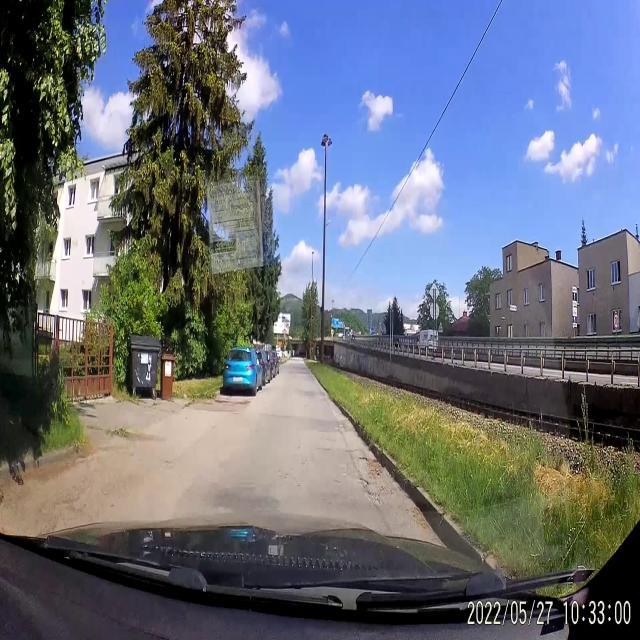Pothole: (358, 480, 386, 514), (404, 504, 432, 532), (356, 452, 386, 478)
